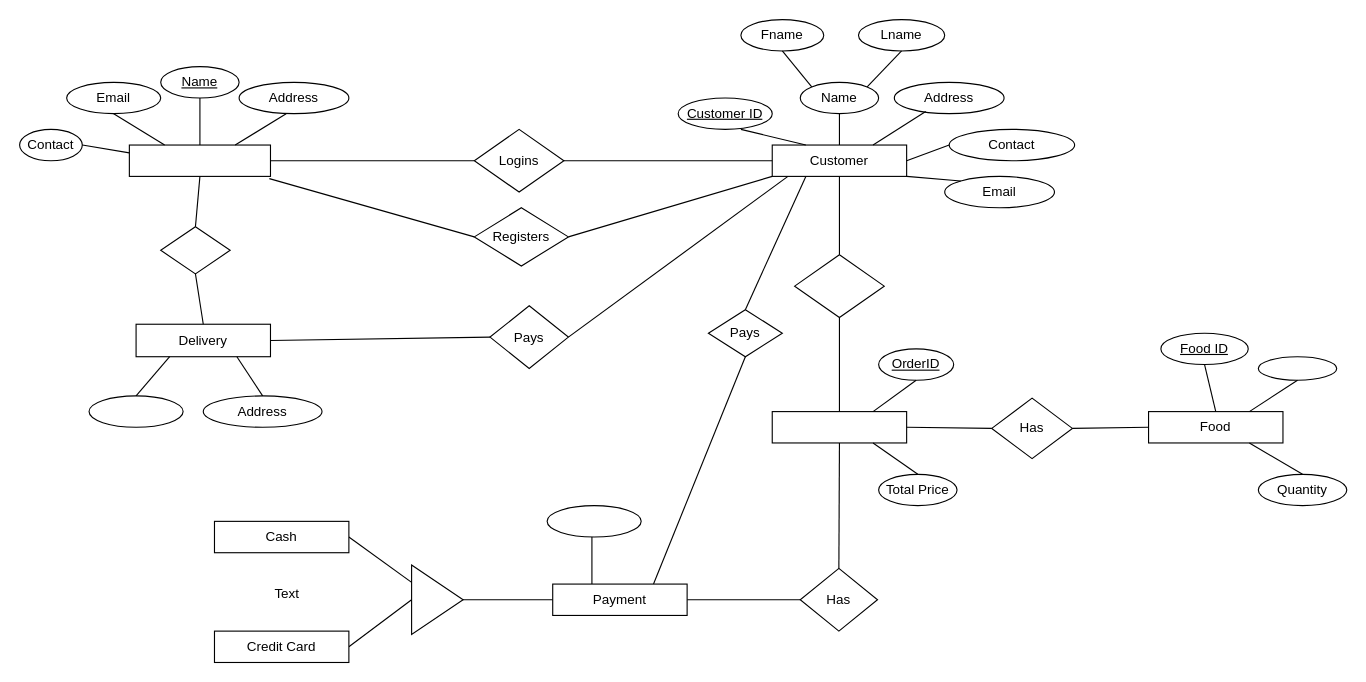
This 1366x682 diagram has some shape labels left out. Here are the shapes that lost their labels. From the top down, the centre of each, then its label:
pixel 199 160: Resturant
pixel 195 250: Confirm
pixel 839 286: Places
pixel 1297 368: Prices
pixel 135 411: DeliveryID
pixel 839 426: Order
pixel 593 521: PaymentID
pixel 436 599: ISA
